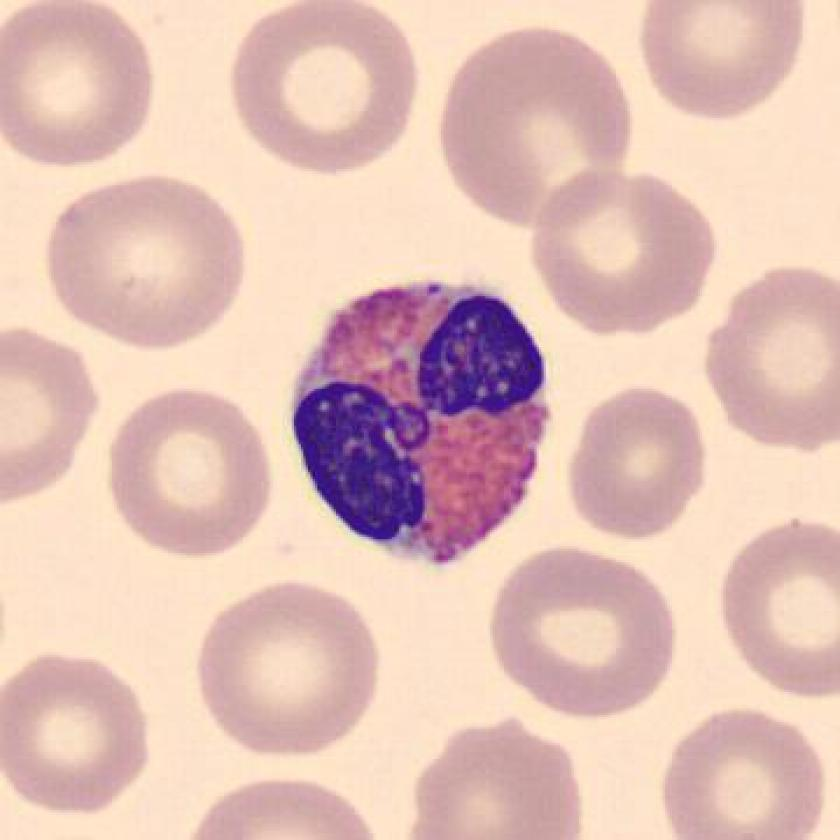eosinophil: (281, 267, 566, 575)
